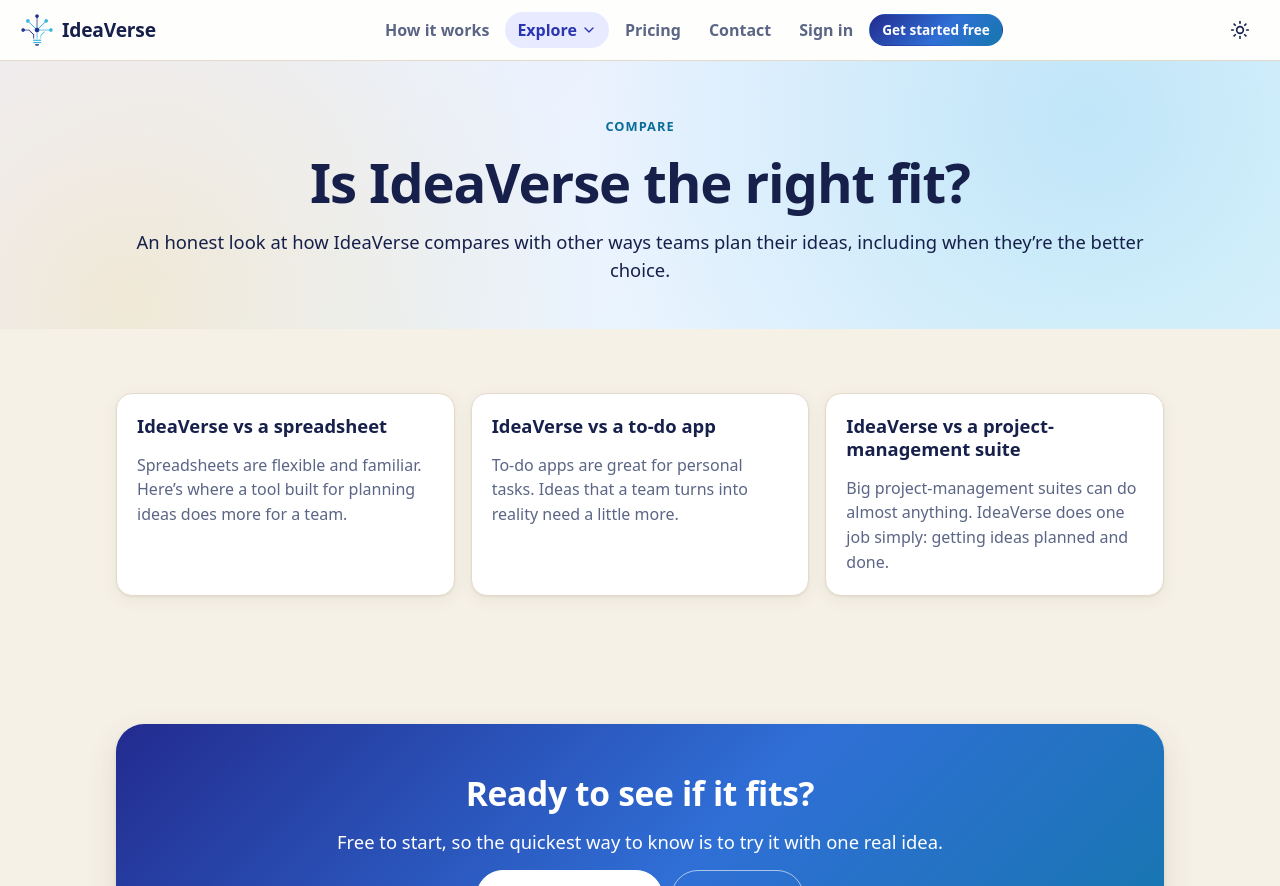
Scenario: Comparison pages › lists every comparison and shows one as a table, with when the alternative is better
What coordinates should you click on to do the following:
click the link "IdeaVerse vs a spreadsheet"
I would click on:
 (285, 494)
Its box is [116, 393, 455, 596].
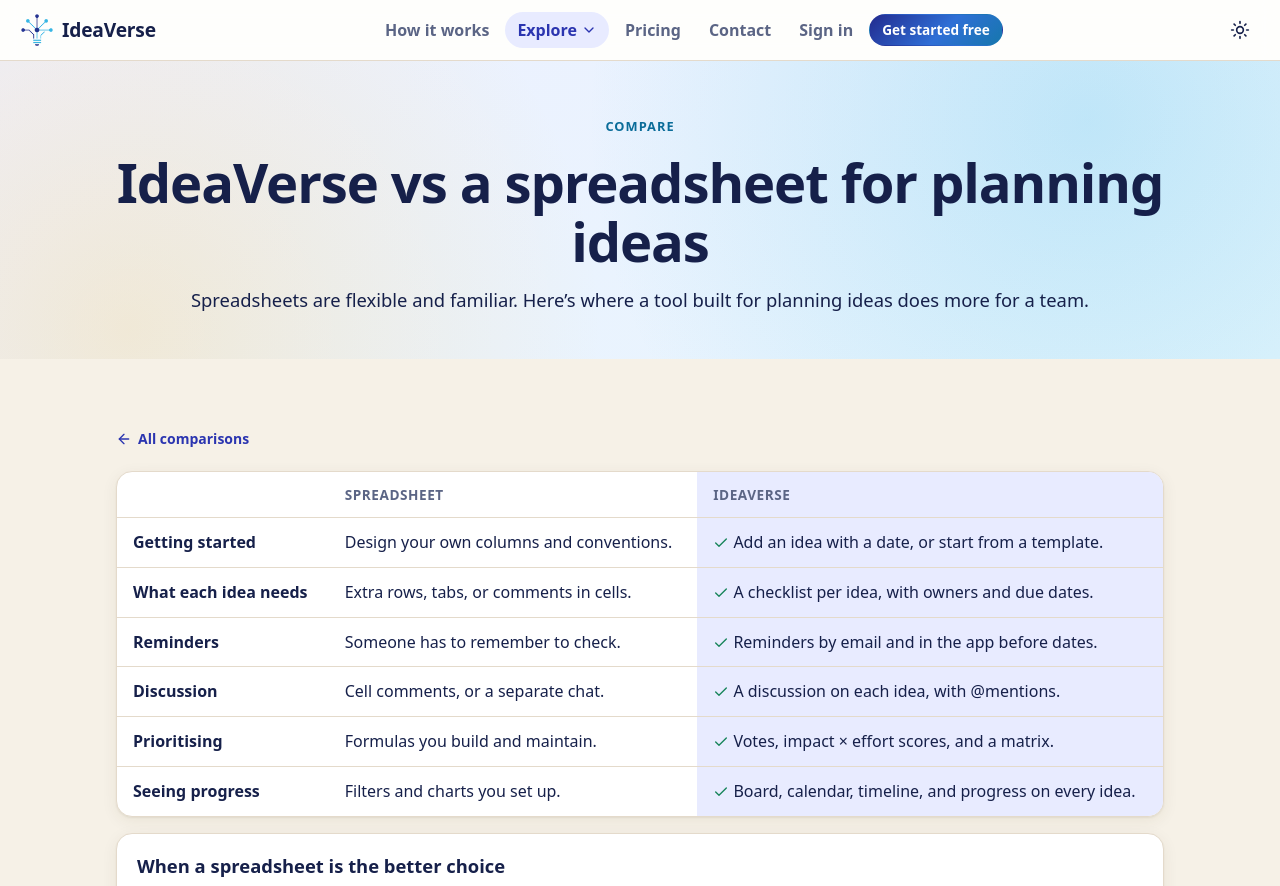
Expected: the column headings read "Topic", "Spreadsheet", "IdeaVerse", in this order, [117, 472, 329, 517]; [329, 472, 697, 517]; [697, 472, 1163, 517]
